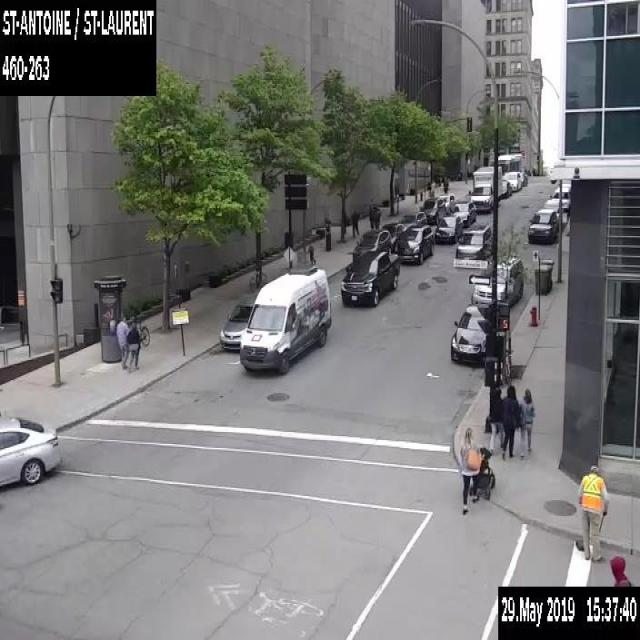bus: (496, 151, 522, 179)
pedestrian: (574, 462, 611, 562), (459, 426, 495, 515), (500, 384, 522, 460), (518, 388, 536, 458), (488, 387, 502, 454), (608, 552, 633, 584), (116, 314, 130, 368), (125, 322, 140, 371), (306, 243, 316, 265), (350, 209, 358, 236), (374, 208, 380, 229), (368, 208, 374, 229), (443, 175, 447, 192)
vehicle: (238, 266, 330, 374), (0, 412, 60, 492), (340, 250, 399, 305), (471, 255, 523, 305), (450, 303, 490, 365), (219, 299, 254, 349), (392, 224, 433, 264), (468, 165, 501, 212), (455, 223, 492, 258), (352, 229, 391, 261), (528, 207, 557, 243), (433, 215, 463, 243), (418, 196, 446, 223), (382, 221, 406, 252), (450, 200, 476, 225), (543, 197, 566, 225), (398, 210, 427, 230), (548, 187, 570, 213), (439, 192, 458, 214), (504, 170, 521, 190), (501, 179, 511, 197), (519, 171, 527, 185)
